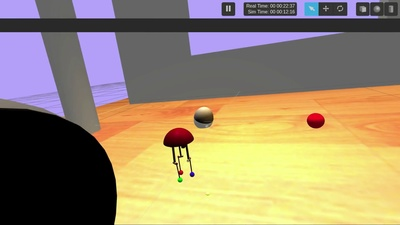mira_robot: (194, 106, 214, 129)
